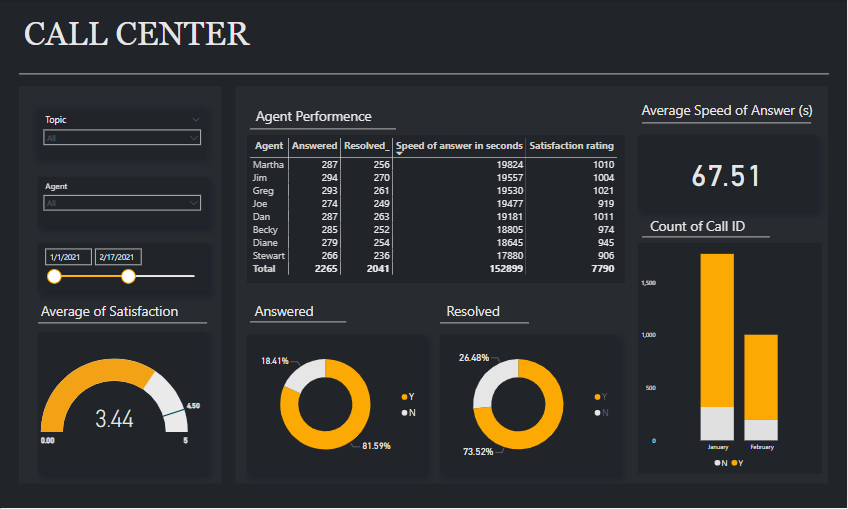

This screenshot's page, from the dashboard's own definition file:
{"tool":"powerbi","page":{"name":"Page 1","canvas":[1500,900],"ordinal":0},"visuals":[{"type":"gauge","fields":{"Y":["Sheet1.Satisfaction rating"],"MaxValue":["Sum(Sheet1.Satisfaction rating)1"],"TargetValue":["Sheet1.Target Value Satisfaction"]},"box":[68.1,589.5,295.7,249],"z":0},{"type":"textbox","title":"Average of Satisfaction","box":[69,528.7,268.8,54.8],"z":1000},{"type":"slicer","fields":{"Values":["Sheet1.Date"]},"box":[68.1,431.9,297.7,85.6],"z":2000},{"type":"slicer","fields":{"Values":["Sheet1.Topic"]},"box":[68.1,198.4,297.7,85.6],"z":3000},{"type":"slicer","fields":{"Values":["Sheet1.Agent"]},"box":[68.1,315.2,297.7,85.6],"z":4000},{"type":"donutChart","fields":{"Category":["Sheet1.Answered (Y/N)"],"Y":["Sheet1.Answered (Y/N)"]},"box":[437.7,593.4,313.2,245.1],"z":5000},{"type":"textbox","title":"Answered","box":[438.5,528.7,130.8,42.4],"z":6000},{"type":"donutChart","fields":{"Category":["Sheet1.Resolved"],"Y":["Sheet1.Resolved"]},"box":[780.2,593.4,313.2,245.1],"z":7000},{"type":"textbox","title":"Resolved","box":[779.8,528.7,116.7,42.4],"z":8000},{"type":"card","fields":{"Values":["Sheet1.Speed of answer in seconds"]},"box":[1129.9,240.5,313,130.8],"z":9000},{"type":"textbox","title":"Resolved","box":[1119.3,173.3,336,49.5],"z":10000},{"type":"pivotTable","fields":{"Rows":["Sheet1.Agent"],"Values":["Sheet1.# of answered","Sheet1.# of resolved","Sheet1.Speed of answer in seconds","Sheet1.Satisfaction rating"]},"box":[438.5,240.5,668.4,261.7],"z":11000},{"type":"columnChart","fields":{"Category":["Sheet1.Date.Variation.Date Hierarchy.Month"],"Series":["Sheet1.Answered (Y/N)"],"Y":["Sheet1.Call Id"]},"box":[1129.9,431.4,325.3,408.4],"z":12000},{"type":"textbox","title":"Resolved","box":[1135.2,378.4,199.8,42.4],"z":13000},{"type":"shape","box":[69,551.7,298.8,42.4],"z":14000},{"type":"shape","box":[443.8,549.9,169.7,42.4],"z":15000},{"type":"shape","box":[779.8,551.7,157.4,42.4],"z":16000},{"type":"shape","box":[1136.9,399.6,226.3,42.4],"z":17000},{"type":"shape","box":[1136.9,198,298.8,42.4],"z":18000},{"type":"textbox","title":"Resolved","box":[443.8,183.9,224.6,49.5],"z":18001},{"type":"shape","box":[443.8,208.6,258.2,42.4],"z":18002},{"type":"shape","box":[35.4,111.4,1432.2,42.4],"z":18003},{"type":"textbox","box":[38.9,23,534,88.4],"z":18004}]}

Visuals, with their boxes in screenshot pixels (x1, y1, x2, y2), scaled from the page's 1500x900 canvas onto the 848x509 screenshot:
gauge - Sheet1.Satisfaction rating x Sum(Sheet1.Satisfaction rating)1: BBox(38, 333, 206, 474)
"Average of Satisfaction" textbox: BBox(39, 299, 191, 330)
slicer - Sheet1.Date: BBox(38, 244, 207, 293)
slicer - Sheet1.Topic: BBox(38, 112, 207, 161)
slicer - Sheet1.Agent: BBox(38, 178, 207, 227)
donutChart - Sheet1.Answered (Y/N) x Sheet1.Answered (Y/N): BBox(247, 336, 425, 474)
"Answered" textbox: BBox(248, 299, 322, 323)
donutChart - Sheet1.Resolved x Sheet1.Resolved: BBox(441, 336, 618, 474)
"Resolved" textbox: BBox(441, 299, 507, 323)
card - Sheet1.Speed of answer in seconds: BBox(639, 136, 816, 210)
"Resolved" textbox: BBox(633, 98, 823, 126)
pivotTable - Sheet1.Agent x Sheet1.# of answered: BBox(248, 136, 626, 284)
columnChart - Sheet1.Date.Variation.Date Hierarchy.Month x Sheet1.Answered (Y/N): BBox(639, 244, 823, 475)
"Resolved" textbox: BBox(642, 214, 755, 238)
shape: BBox(39, 312, 208, 336)
shape: BBox(251, 311, 347, 335)
shape: BBox(441, 312, 530, 336)
shape: BBox(643, 226, 771, 250)
shape: BBox(643, 112, 812, 136)
"Resolved" textbox: BBox(251, 104, 378, 132)
shape: BBox(251, 118, 397, 142)
shape: BBox(20, 63, 830, 87)
textbox: BBox(22, 13, 324, 63)
